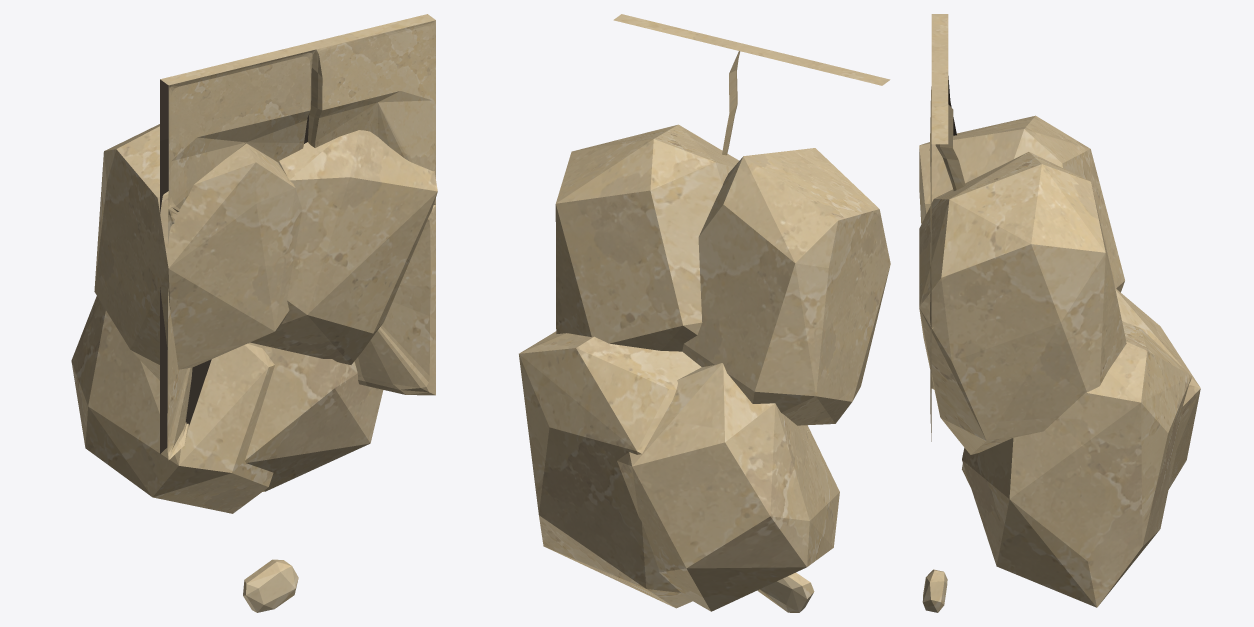
The model's file is ground_bottom_square_edge_10.glb.
3 renders of one model, left to right at view 1: azimuth 30°, elevation 25°; view 2: azimuth 150°, elevation 25°; view 3: azimuth 270°, elevation 25°, orthographic.
Parts seen in each view (by area): view 1: GroundBottomSquareEdge10_Body; view 2: GroundBottomSquareEdge10_Body; view 3: GroundBottomSquareEdge10_Body.
Part boxes in pixels (x1,y1,x2,y2): GroundBottomSquareEdge10_Body: (71, 14, 437, 612); GroundBottomSquareEdge10_Body: (519, 14, 890, 612); GroundBottomSquareEdge10_Body: (919, 14, 1200, 612).
Size of the model in its own units: 1 by 1.97 by 1.04.
Materials: 6 (5 with a texture image).
